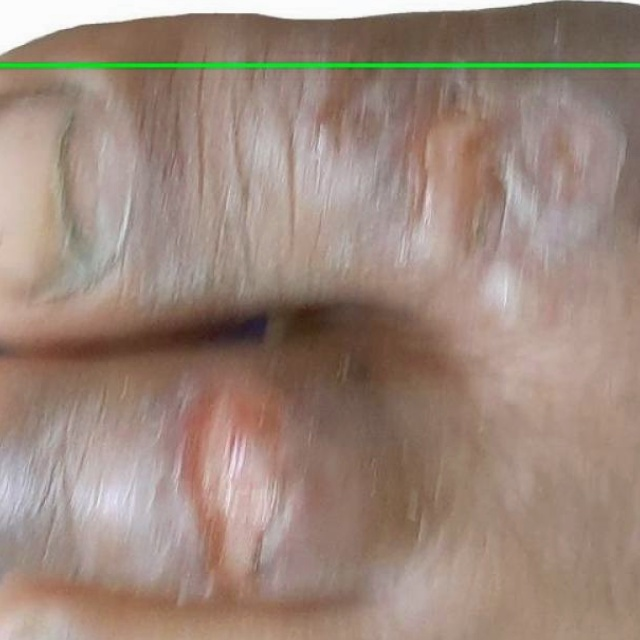Eczema: (0, 0, 639, 65)
